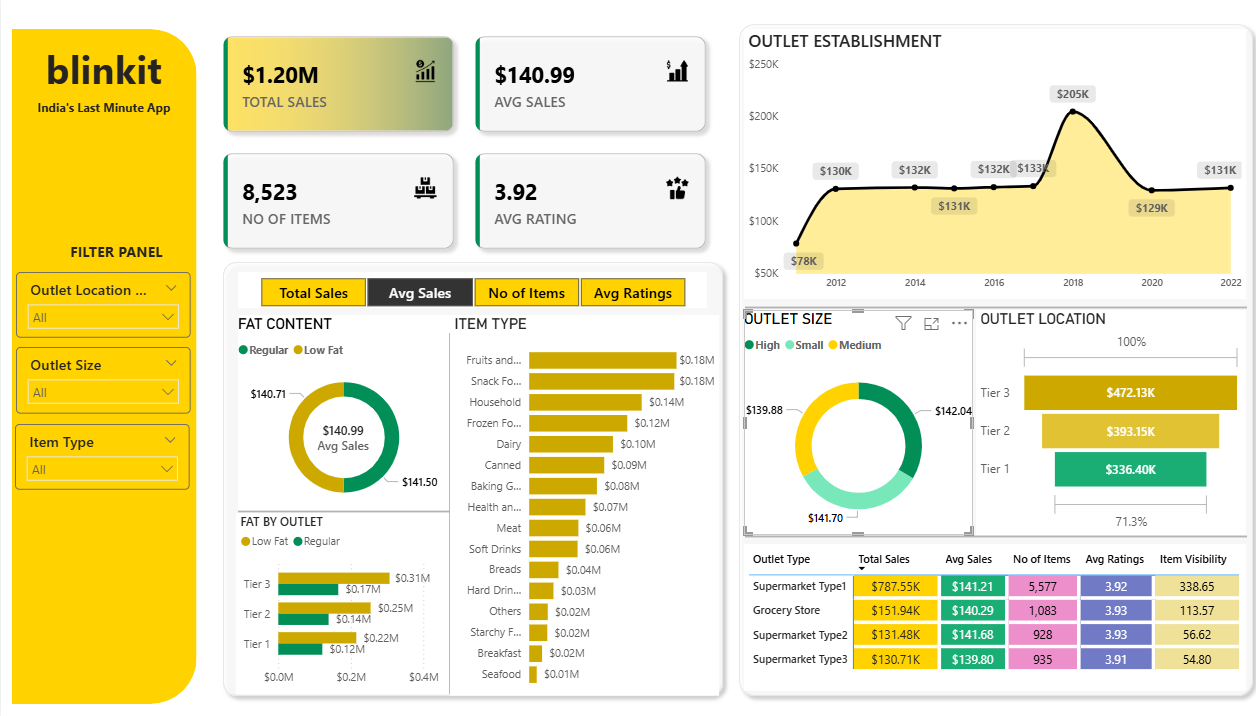

The dashboard page shown, as its layout file describes it:
{"tool":"powerbi","page":{"name":"Page 1","canvas":[1400,800],"ordinal":0},"visuals":[{"type":"shape","box":[11.7,34,205.3,750],"z":0},{"type":"textbox","box":[11.7,44.7,204.3,76.6],"z":1000},{"type":"textbox","box":[11.7,107.4,204.3,26.6],"z":2000},{"type":"cardVisual","fields":{"Data":["BlinkIT Grocery Data.Total Sales","BlinkIT Grocery Data.Avg Sales","BlinkIT Grocery Data.No of Items","BlinkIT Grocery Data.Avg Ratings"]},"box":[230,25.6,570,270],"z":3000},{"type":"shape","box":[237.8,284.4,573.3,500],"z":4000},{"type":"slicer","fields":{"Values":["Metrics.Metrics"]},"box":[263.3,304.4,521.1,40],"z":5000},{"type":"donutChart","title":"FAT CONTENT","fields":{"Y":["BlinkIT Grocery Data.Avg Sales"],"Category":["BlinkIT Grocery Data.Item Fat Content"]},"box":[263.3,352.2,235.6,220],"z":6000},{"type":"cardVisual","fields":{"Data":["BlinkIT Grocery Data.Avg Sales"]},"box":[326.7,454.4,107.8,65.6],"z":7000},{"type":"clusteredBarChart","title":"FAT BY OUTLET","fields":{"Y":["BlinkIT Grocery Data.Total Sales"],"Category":["BlinkIT Grocery Data.Outlet Location Type"],"Series":["BlinkIT Grocery Data.Item Fat Content"]},"box":[261.1,572.2,237.8,201.1],"z":8000},{"type":"shape","box":[263.3,562.2,235.6,16.7],"z":9000},{"type":"shape","box":[477.8,372.2,42.2,401.1],"z":10000},{"type":"barChart","title":"ITEM TYPE","fields":{"Y":["BlinkIT Grocery Data.Total Sales"],"Category":["BlinkIT Grocery Data.Item Type"]},"box":[498.9,352.2,298.9,423.3],"z":11000},{"type":"shape","box":[811.1,20,588.9,764.4],"z":12000},{"type":"lineChart","title":"OUTLET ESTABLISHMENT","fields":{"Y":["BlinkIT Grocery Data.Total Sales"],"Category":["BlinkIT Grocery Data.Outlet Establishment Year"]},"box":[825.6,34.4,557.8,300],"z":13000},{"type":"shape","box":[826.7,335.6,557.8,16.7],"z":14000},{"type":"donutChart","title":"OUTLET SIZE","fields":{"Y":["BlinkIT Grocery Data.Avg Sales"],"Category":["BlinkIT Grocery Data.Outlet Size"]},"box":[825.6,346.7,254.4,250],"z":15000},{"type":"funnel","title":"OUTLET LOCATION","fields":{"Y":["BlinkIT Grocery Data.Total Sales"],"Category":["BlinkIT Grocery Data.Outlet Location Type"]},"box":[1083.3,346.7,300,250],"z":16000},{"type":"pivotTable","fields":{"Rows":["BlinkIT Grocery Data.Outlet Type"],"Values":["BlinkIT Grocery Data.Total Sales","BlinkIT Grocery Data.Avg Sales","BlinkIT Grocery Data.No of Items","BlinkIT Grocery Data.Avg Ratings","Sum(BlinkIT Grocery Data.Item Visibility)"]},"box":[825.6,606.7,557.8,163.3],"z":17000},{"type":"shape","box":[826.7,590,557.8,16.7],"z":18000},{"type":"slicer","fields":{"Values":["BlinkIT Grocery Data.Outlet Location Type"]},"box":[16.7,304.4,194.4,73.3],"z":19000},{"type":"slicer","fields":{"Values":["BlinkIT Grocery Data.Outlet Size"]},"box":[16.7,387.8,194.4,74.4],"z":19001},{"type":"slicer","fields":{"Values":["BlinkIT Grocery Data.Item Type"]},"box":[15.6,473.3,194.4,73.3],"z":19002},{"type":"textbox","box":[71.1,265.6,114.4,37.8],"z":19003}]}

Visuals, with their boxes in screenshot pixels (x1, y1, x2, y2), scaled from the page's 1400x800 canvas onto the 1256x716 screenshot:
shape: l=10, t=30, r=195, b=702
textbox: l=10, t=40, r=194, b=109
textbox: l=10, t=96, r=194, b=120
cardVisual - BlinkIT Grocery Data.Total Sales x BlinkIT Grocery Data.Avg Sales: l=206, t=23, r=718, b=265
shape: l=213, t=255, r=728, b=702
slicer - Metrics.Metrics: l=236, t=272, r=704, b=308
"FAT CONTENT" donutChart: l=236, t=315, r=448, b=512
cardVisual - BlinkIT Grocery Data.Avg Sales: l=293, t=407, r=390, b=465
"FAT BY OUTLET" clusteredBarChart: l=234, t=512, r=448, b=692
shape: l=236, t=503, r=448, b=518
shape: l=429, t=333, r=467, b=692
"ITEM TYPE" barChart: l=448, t=315, r=716, b=694
shape: l=728, t=18, r=1255, b=702
"OUTLET ESTABLISHMENT" lineChart: l=741, t=31, r=1241, b=299
shape: l=742, t=300, r=1242, b=315
"OUTLET SIZE" donutChart: l=741, t=310, r=969, b=534
"OUTLET LOCATION" funnel: l=972, t=310, r=1241, b=534
pivotTable - BlinkIT Grocery Data.Outlet Type x BlinkIT Grocery Data.Total Sales: l=741, t=543, r=1241, b=689
shape: l=742, t=528, r=1242, b=543
slicer - BlinkIT Grocery Data.Outlet Location Type: l=15, t=272, r=189, b=338
slicer - BlinkIT Grocery Data.Outlet Size: l=15, t=347, r=189, b=414
slicer - BlinkIT Grocery Data.Item Type: l=14, t=424, r=188, b=489
textbox: l=64, t=238, r=166, b=272
